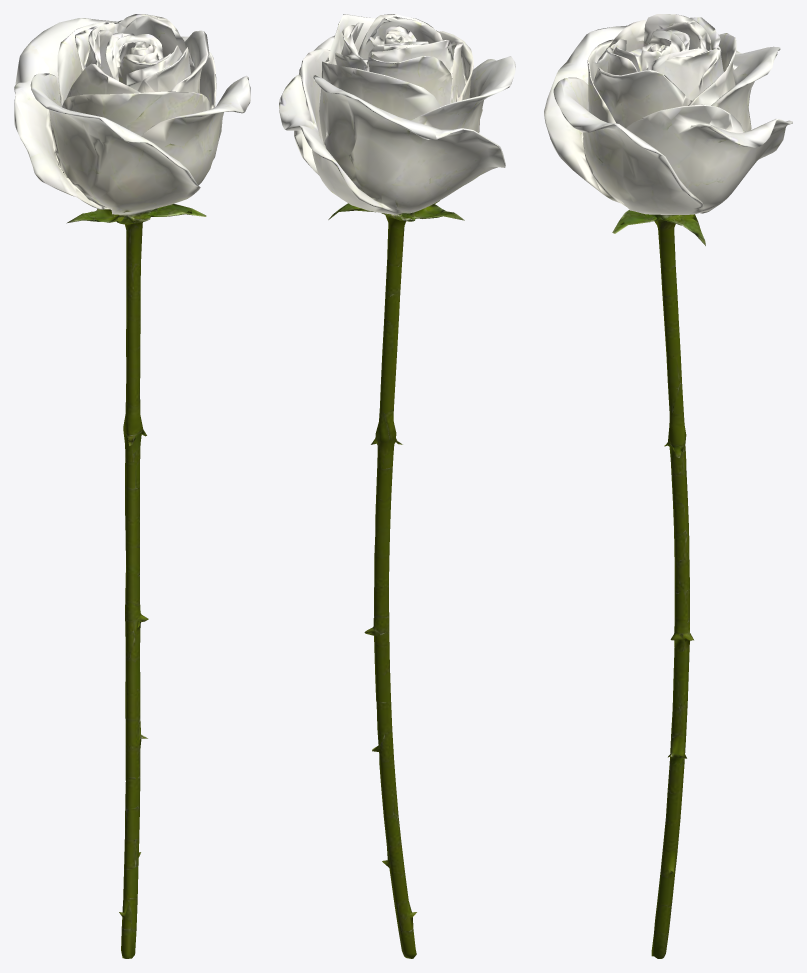
Rendered from white_rose.glb.
3 renders of one model, left to right at view 1: azimuth 30°, elevation 25°; view 2: azimuth 150°, elevation 25°; view 3: azimuth 270°, elevation 25°, orthographic.
Bounding box in the file's own units: 0.4512 × 1.9 × 0.4611.
Materials: 1 (1 with a texture image).
